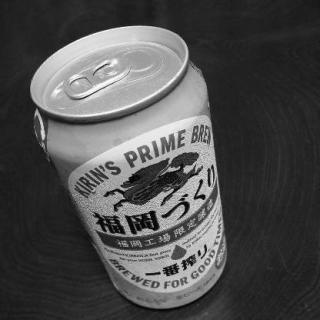alumunium_can: (31, 26, 227, 309)
